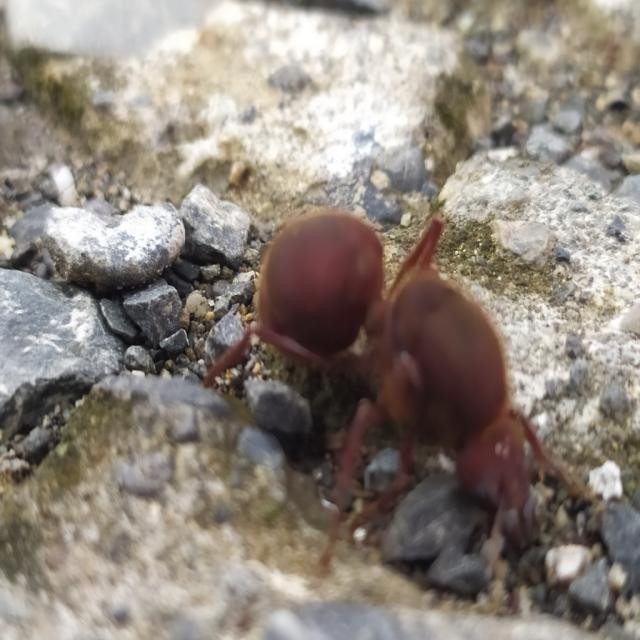Alive-Female-Dealate: (203, 208, 594, 602)
